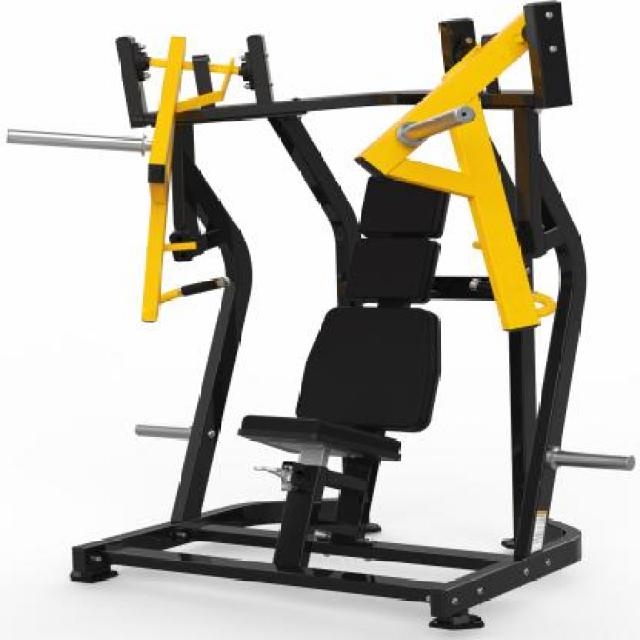Chest Press machine: (11, 1, 638, 632)
